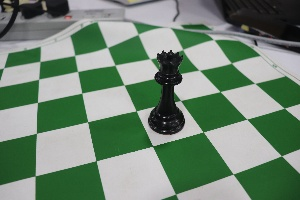black_queen: (141, 30, 192, 147)
